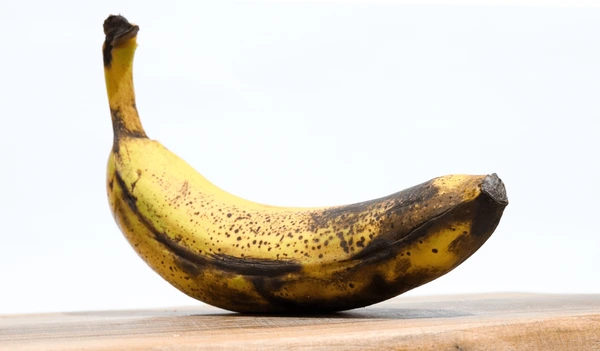banana: (88, 7, 513, 319)
